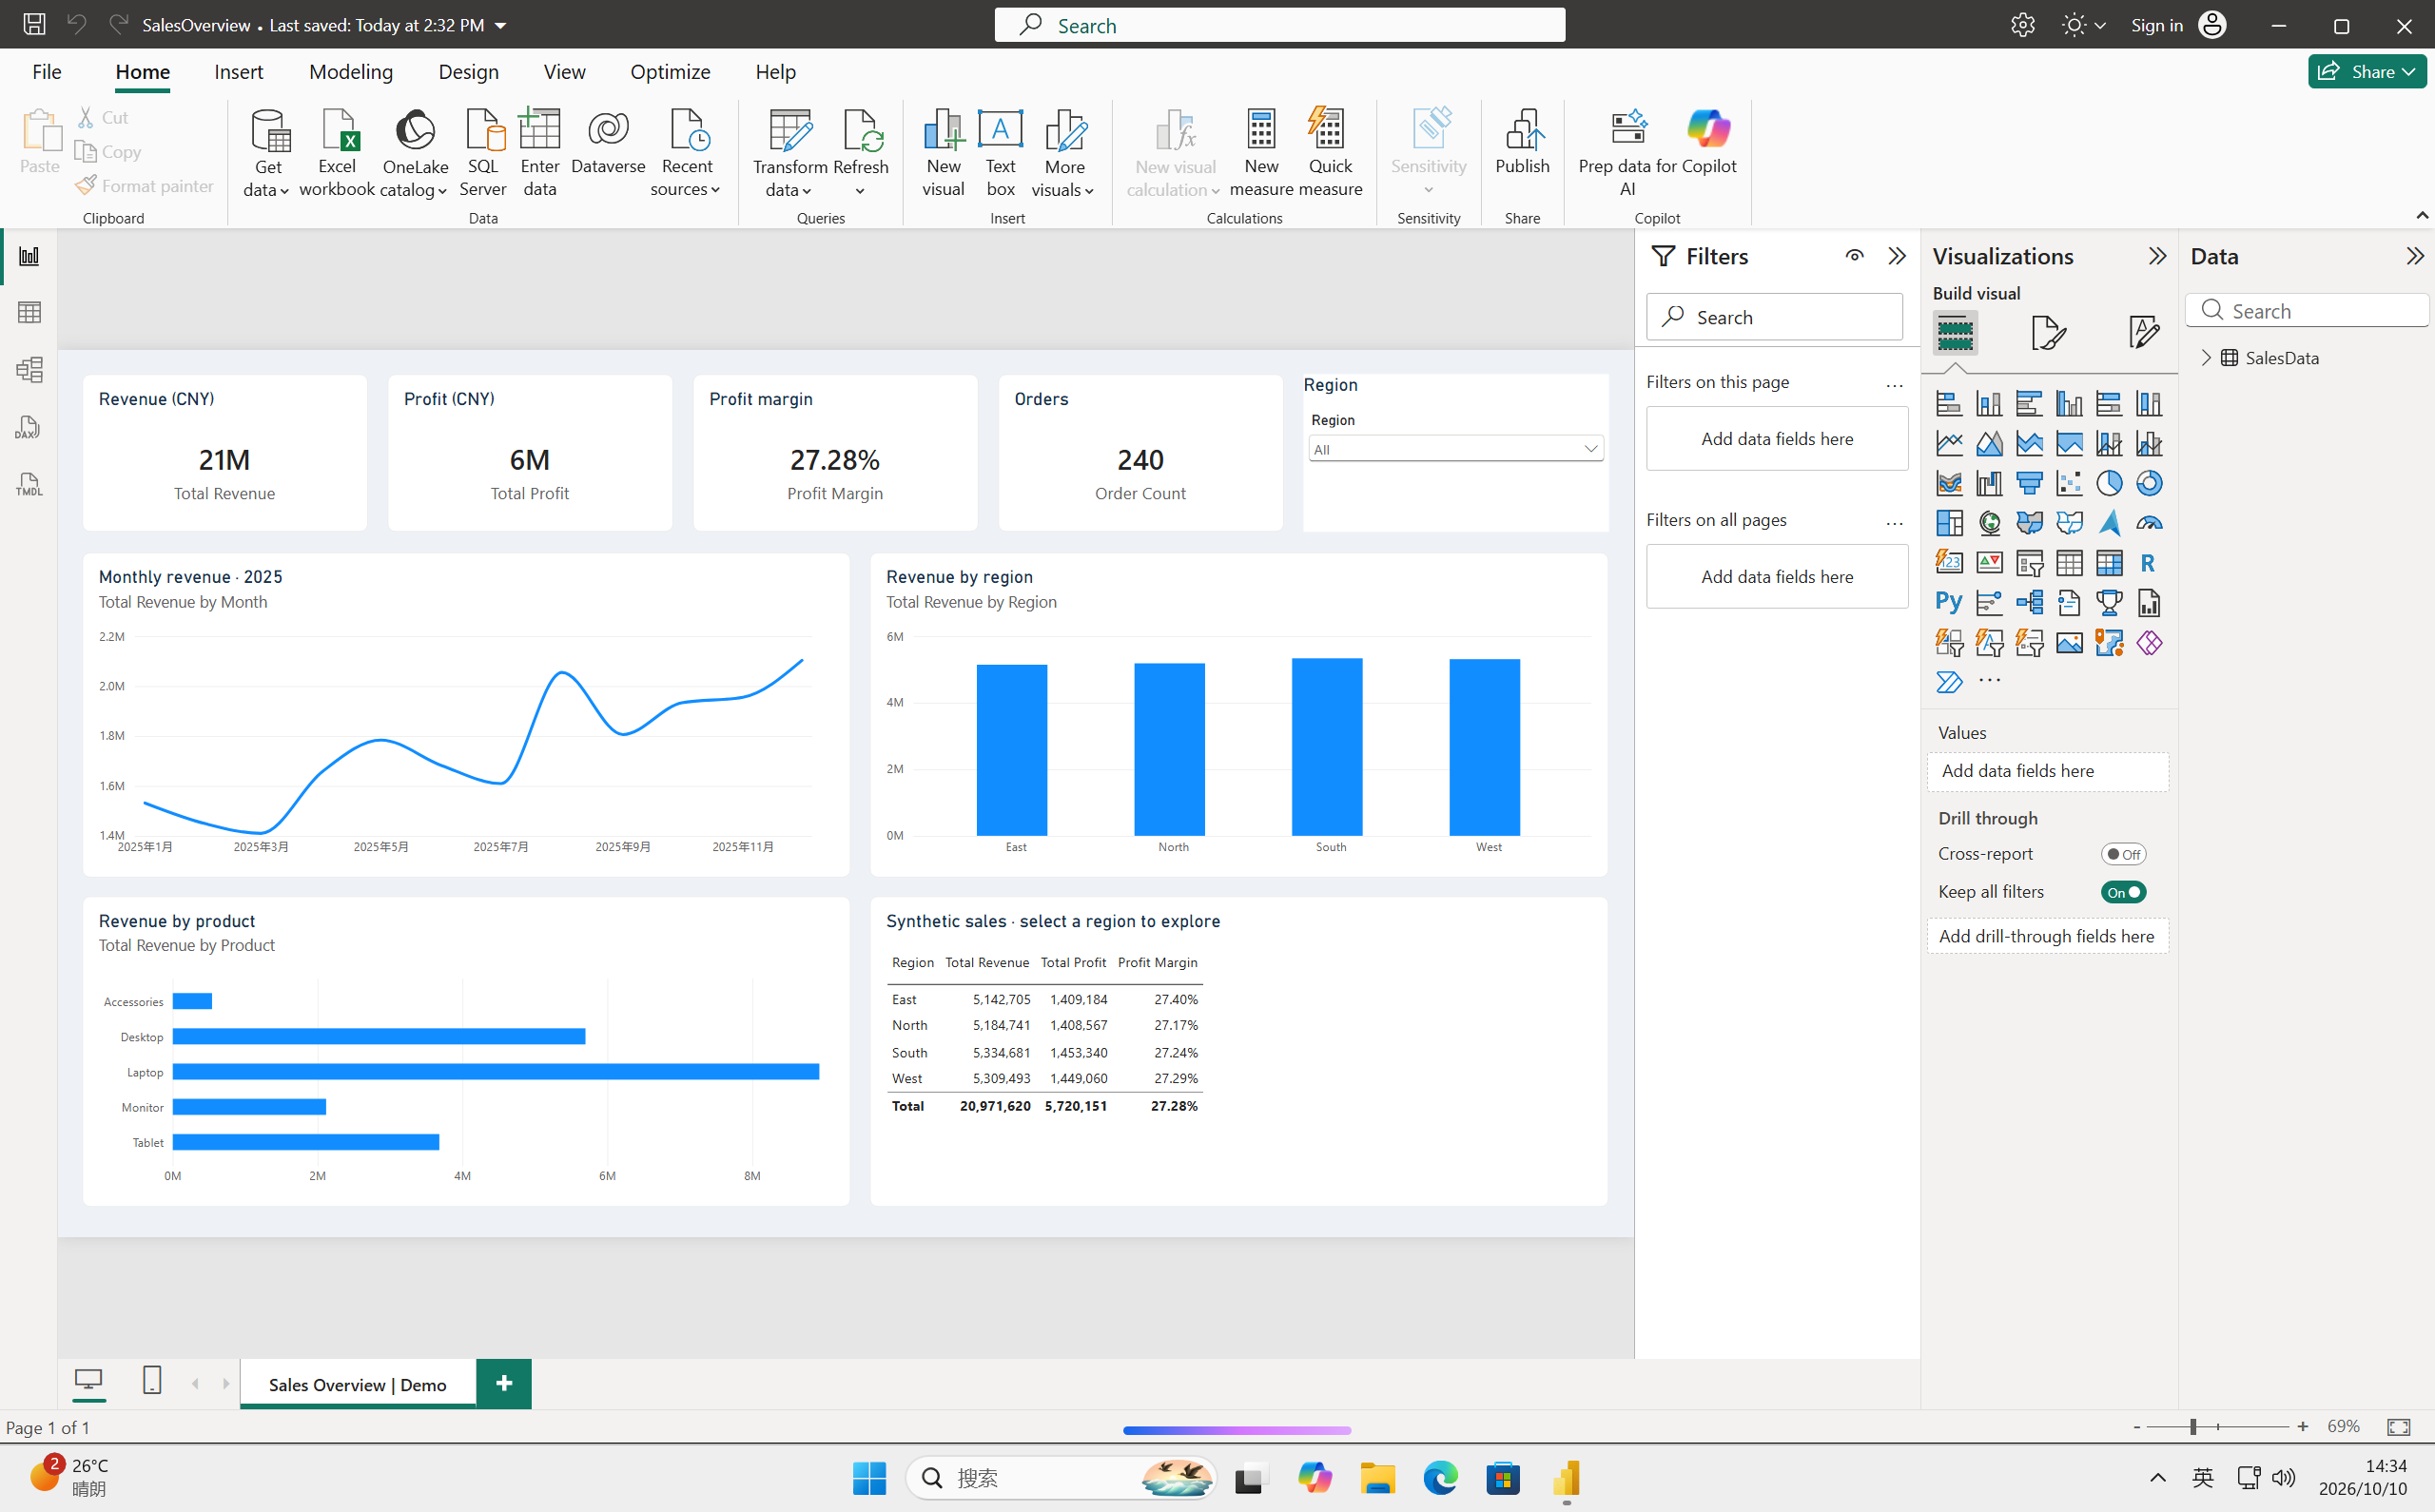

This screenshot's page, from the dashboard's own definition file:
{"tool":"powerbi","page":{"name":"Sales Overview | Demo","canvas":[1600,900],"ordinal":0},"visuals":[{"type":"card","title":"Revenue (CNY)","fields":{"Values":["SalesData.Total Revenue"]},"box":[24,24,290,160],"z":0},{"type":"card","title":"Profit (CNY)","fields":{"Values":["SalesData.Total Profit"]},"box":[334,24,290,160],"z":1},{"type":"card","title":"Profit margin","fields":{"Values":["SalesData.Profit Margin"]},"box":[644,24,290,160],"z":2},{"type":"card","title":"Orders","fields":{"Values":["SalesData.Order Count"]},"box":[954,24,290,160],"z":3},{"type":"lineChart","title":"Monthly revenue · 2025","fields":{"Category":["SalesData.Month"],"Y":["SalesData.Total Revenue"]},"box":[24,205,780,330],"z":4},{"type":"clusteredColumnChart","title":"Revenue by region","fields":{"Category":["SalesData.Region"],"Y":["SalesData.Total Revenue"]},"box":[824,205,750,330],"z":5},{"type":"clusteredBarChart","title":"Revenue by product","fields":{"Category":["SalesData.Product"],"Y":["SalesData.Total Revenue"]},"box":[24,555,780,315],"z":6},{"type":"tableEx","title":"Synthetic sales · select a region to explore","fields":{"Values":["SalesData.Region","SalesData.Total Revenue","SalesData.Total Profit","SalesData.Profit Margin"]},"box":[824,555,750,315],"z":7},{"type":"slicer","title":"Region","fields":{"Values":["SalesData.Region"]},"box":[1264,24,310,160],"z":8}]}

Visuals, with their boxes on the page's 1600x900 design canvas (x1, y1, x2, y2). These are canvas units, not pixel positions in the 2435x1512 screenshot, which may show the page scaled, cropped or inside an application window:
"Revenue (CNY)" card: 24, 24, 314, 184
"Profit (CNY)" card: 334, 24, 624, 184
"Profit margin" card: 644, 24, 934, 184
"Orders" card: 954, 24, 1244, 184
"Monthly revenue · 2025" lineChart: 24, 205, 804, 535
"Revenue by region" clusteredColumnChart: 824, 205, 1574, 535
"Revenue by product" clusteredBarChart: 24, 555, 804, 870
"Synthetic sales · select a region to explore" tableEx: 824, 555, 1574, 870
"Region" slicer: 1264, 24, 1574, 184
